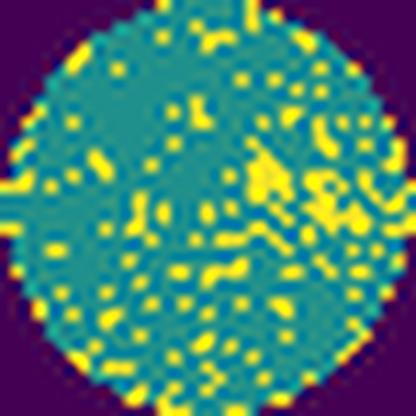Loc: (303, 166, 374, 237), (245, 135, 297, 230)
